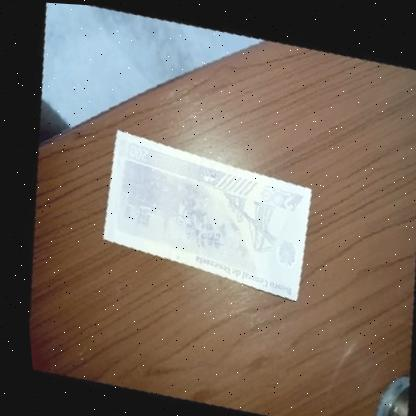two_hundred-back-vef: (86, 127, 321, 300)
